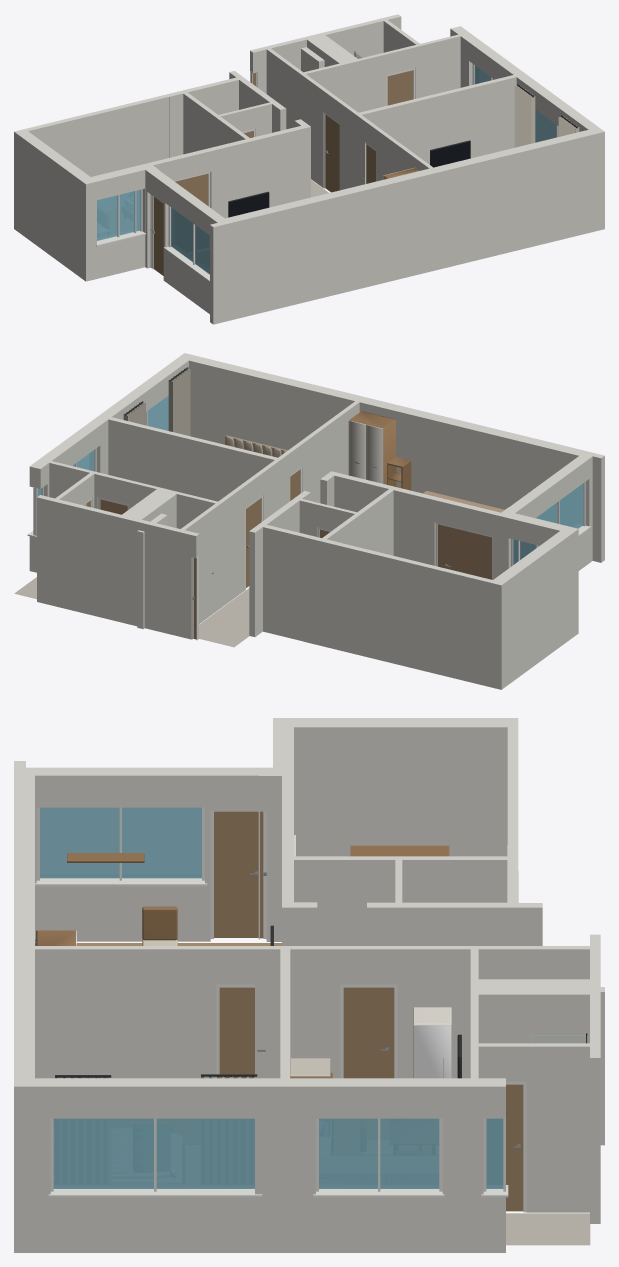
The model's file is oursv11b_66.glb.
3 renders of one model, top to bottom at view 1: azimuth 30°, elevation 25°; view 2: azimuth 150°, elevation 25°; view 3: azimuth 270°, elevation 25°, orthographic. The views are drawn at different scales.
Visible parts, largest first — view 1: wall|high_quality_architectural_4535_F1_scaled|apt0, wall|high_quality_architectural_4535_F1_scaled|apt1 Window ., wall|high_quality_architectural_4535_F1_scaled|apt14 Door 0 , wall|high_quality_architectural_4535_F1_scaled|apt1 Window, Bench seat, Dark appliance door, high_quality_architectural_4535_F1_scaled__R10_4 | source st; view 2: wall|high_quality_architectural_4535_F1_scaled|apt0, wall|high_quality_architectural_4535_F1_scaled|apt14 Door 0 , wall|high_quality_architectural_4535_F1_scaled|apt1 Window ., floor|high_quality_architectural_4535_F1_scaled__R06, Appliance enclosure, wall|high_quality_architectural_4535_F1_scaled|apt1 Window, Bench seat, Backrest, high_quality_architectural_4535_F1_scaled__R10_4 | source st, V2 padded headboard backing; view 3: wall|high_quality_architectural_4535_F1_scaled|apt0, wall|high_quality_architectural_4535_F1_scaled|apt1 Window ., wall|high_quality_architectural_4535_F1_scaled|apt14 Door 0 , wall|high_quality_architectural_4535_F1_scaled|apt1 Window, Backrest, floor|high_quality_architectural_4535_F1_scaled__R06, Freezer drawer, Appliance enclosure, high_quality_architectural_4535_F1_scaled__R10_4 | source st, Stone worktop.
Part boxes in pixels (x1,y1,x2,y2): wall|high_quality_architectural_4535_F1_scaled|apt0: (14, 14, 604, 324); wall|high_quality_architectural_4535_F1_scaled|apt1 Window .: (97, 65, 558, 274); wall|high_quality_architectural_4535_F1_scaled|apt14 Door 0 : (152, 70, 412, 275); wall|high_quality_architectural_4535_F1_scaled|apt1 Window: (96, 64, 558, 282); Bench seat: (514, 85, 579, 147); Dark appliance door: (229, 141, 470, 217); high_quality_architectural_4535_F1_scaled__R10_4 | source st: (301, 47, 324, 72); wall|high_quality_architectural_4535_F1_scaled|apt0: (29, 353, 604, 689); wall|high_quality_architectural_4535_F1_scaled|apt14 Door 0 : (84, 470, 491, 639); wall|high_quality_architectural_4535_F1_scaled|apt1 Window .: (37, 395, 583, 564); floor|high_quality_architectural_4535_F1_scaled__R06: (14, 577, 249, 647); Appliance enclosure: (348, 420, 383, 483); wall|high_quality_architectural_4535_F1_scaled|apt1 Window: (27, 411, 591, 640); Bench seat: (123, 368, 190, 436); Backrest: (349, 411, 411, 490); high_quality_architectural_4535_F1_scaled__R10_4 | source st: (137, 513, 167, 629); V2 padded headboard backing: (225, 435, 287, 457); wall|high_quality_architectural_4535_F1_scaled|apt0: (14, 718, 600, 1252); wall|high_quality_architectural_4535_F1_scaled|apt1 Window .: (40, 807, 503, 1188); wall|high_quality_architectural_4535_F1_scaled|apt14 Door 0 : (214, 811, 523, 1211); wall|high_quality_architectural_4535_F1_scaled|apt1 Window: (35, 807, 526, 1212); Backrest: (36, 845, 449, 1078); floor|high_quality_architectural_4535_F1_scaled__R06: (506, 1213, 590, 1245); Freezer drawer: (413, 1025, 451, 1078); Appliance enclosure: (75, 930, 451, 1077); high_quality_architectural_4535_F1_scaled__R10_4 | source st: (600, 987, 604, 1145); Stone worktop: (290, 1058, 330, 1076).
Bounding box in the file's own units: 12.39 × 2.61 × 8.38.
